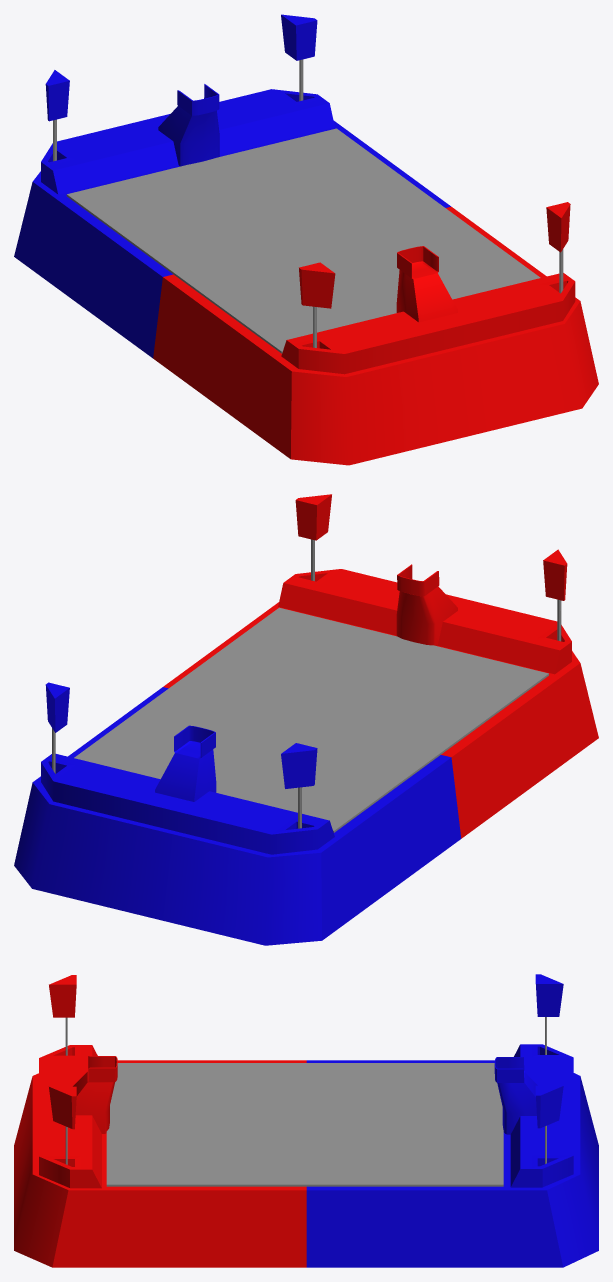
The model's file is YuGiOH-Mini Duel Arena.fbx.
The picture shows the model from 3 angles, top to bottom: view 1: azimuth 30°, elevation 25°; view 2: azimuth 150°, elevation 25°; view 3: azimuth 270°, elevation 25°; orthographic projection. The views are drawn at different scales.
Visible parts, largest first — view 1: Box005; view 2: Box005; view 3: Box005.
Boxes of the visible parts, bbox=[...] form: Box005: bbox=[14, 14, 598, 465]; Box005: bbox=[14, 494, 598, 945]; Box005: bbox=[14, 974, 598, 1267].
Bounding box in the file's own units: 446 × 245 × 795.
